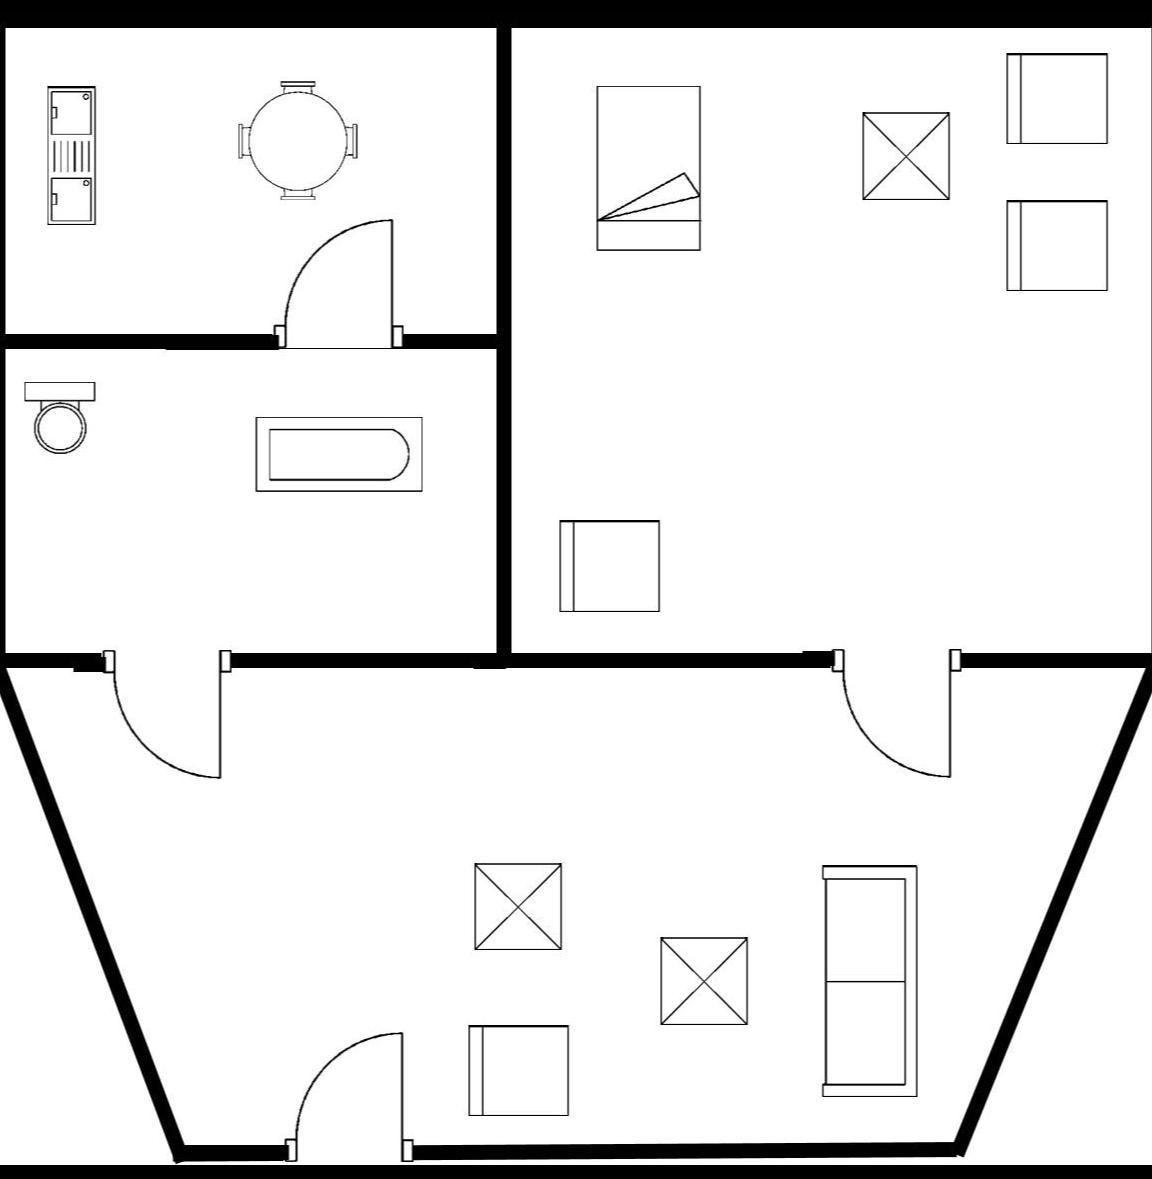sink: (34, 75, 108, 235)
